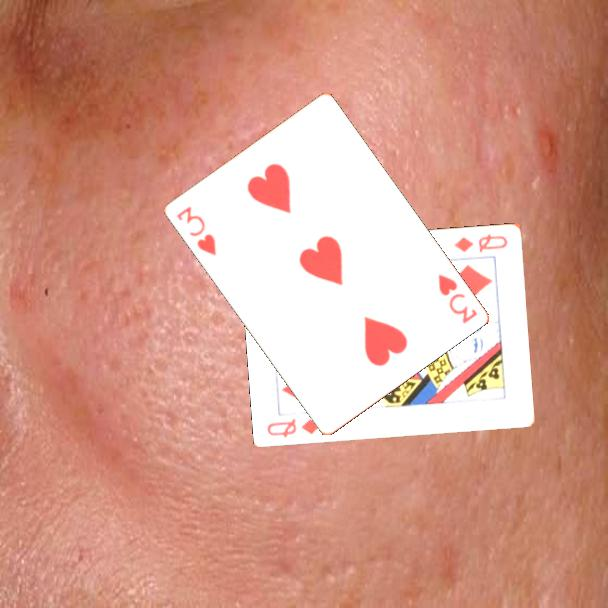d12: (264, 415, 324, 440), (451, 230, 510, 255)
h03: (172, 203, 219, 259), (434, 270, 480, 327)
